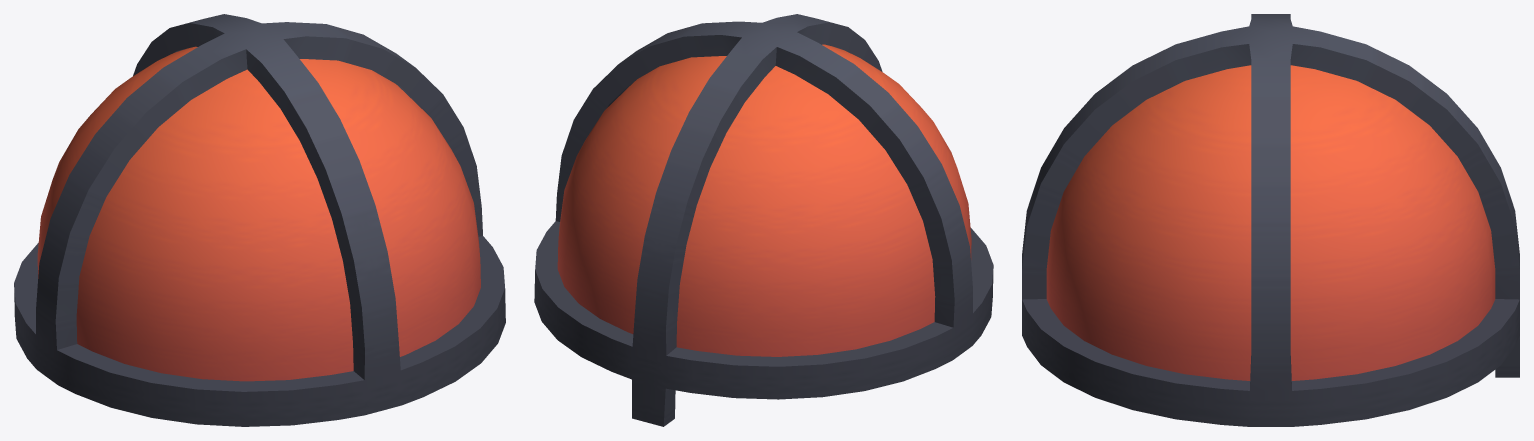
File: Attach_Hat_Helmet.fbx
3 renders of one model, left to right at view 1: azimuth 30°, elevation 25°; view 2: azimuth 150°, elevation 25°; view 3: azimuth 270°, elevation 25°, orthographic. The views are drawn at different scales.
Visible parts, largest first — view 1: Attach_Hat_Helmet, PillCharacterMesh.002; view 2: Attach_Hat_Helmet, PillCharacterMesh.002; view 3: Attach_Hat_Helmet, PillCharacterMesh.002.
Boxes of the visible parts, bbox=[...] form: Attach_Hat_Helmet: bbox=[37, 46, 480, 381]; PillCharacterMesh.002: bbox=[14, 14, 505, 426]; Attach_Hat_Helmet: bbox=[557, 44, 971, 356]; PillCharacterMesh.002: bbox=[534, 14, 993, 426]; Attach_Hat_Helmet: bbox=[1046, 65, 1495, 380]; PillCharacterMesh.002: bbox=[1022, 14, 1519, 426].
Size of the model in its own units: 1.27 by 1.26 by 0.9364.
